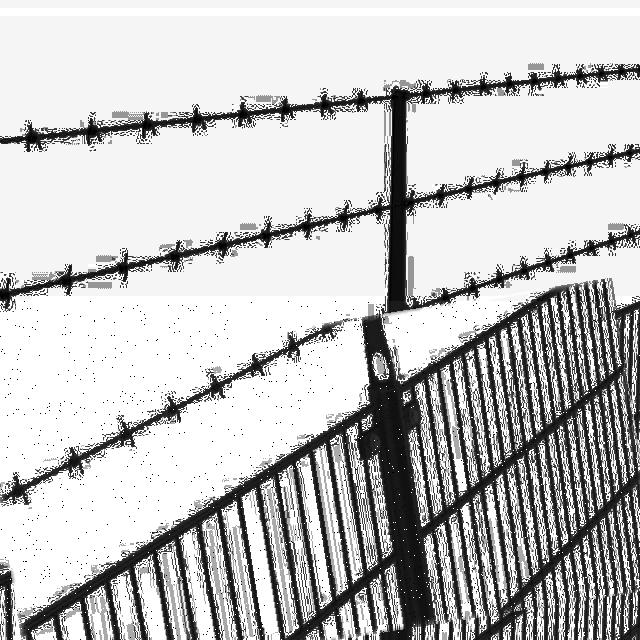fences: (0, 301, 640, 640)
